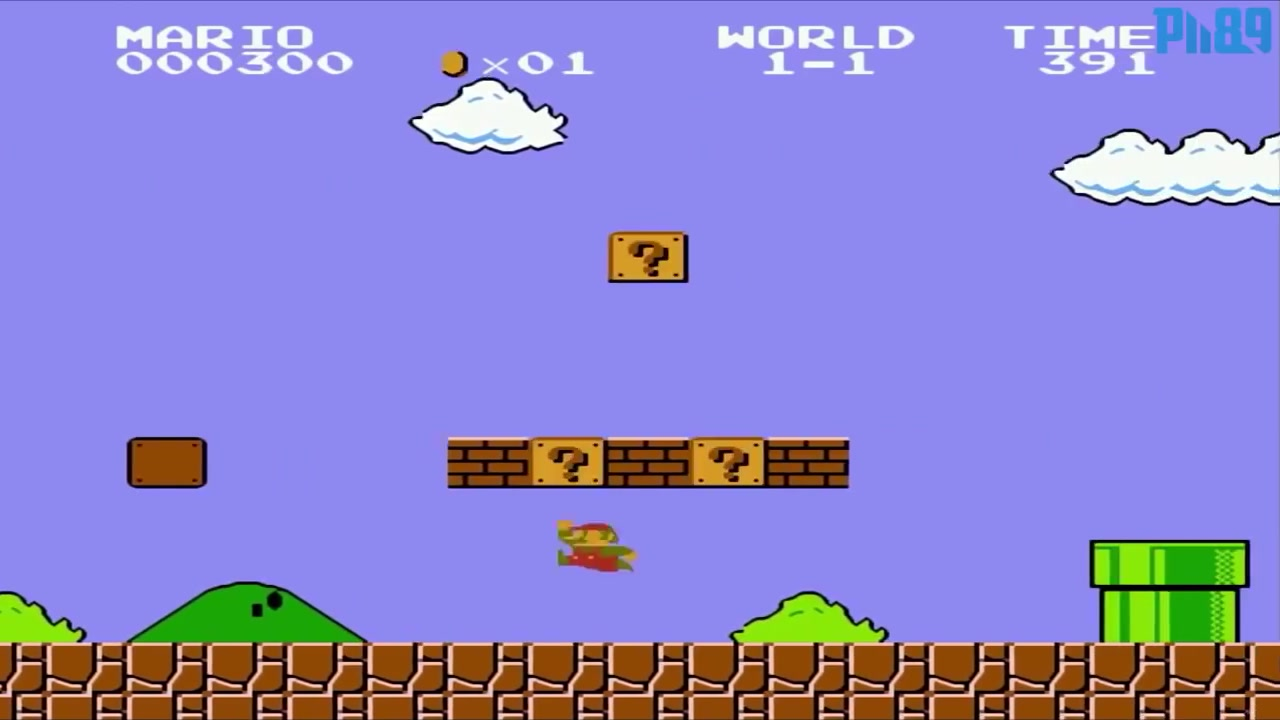mario: (548, 513, 639, 580)
